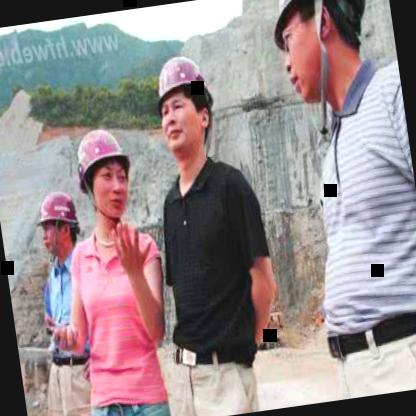helmet: (258, 0, 370, 113), (145, 40, 229, 169), (62, 113, 141, 226), (29, 181, 84, 261)
